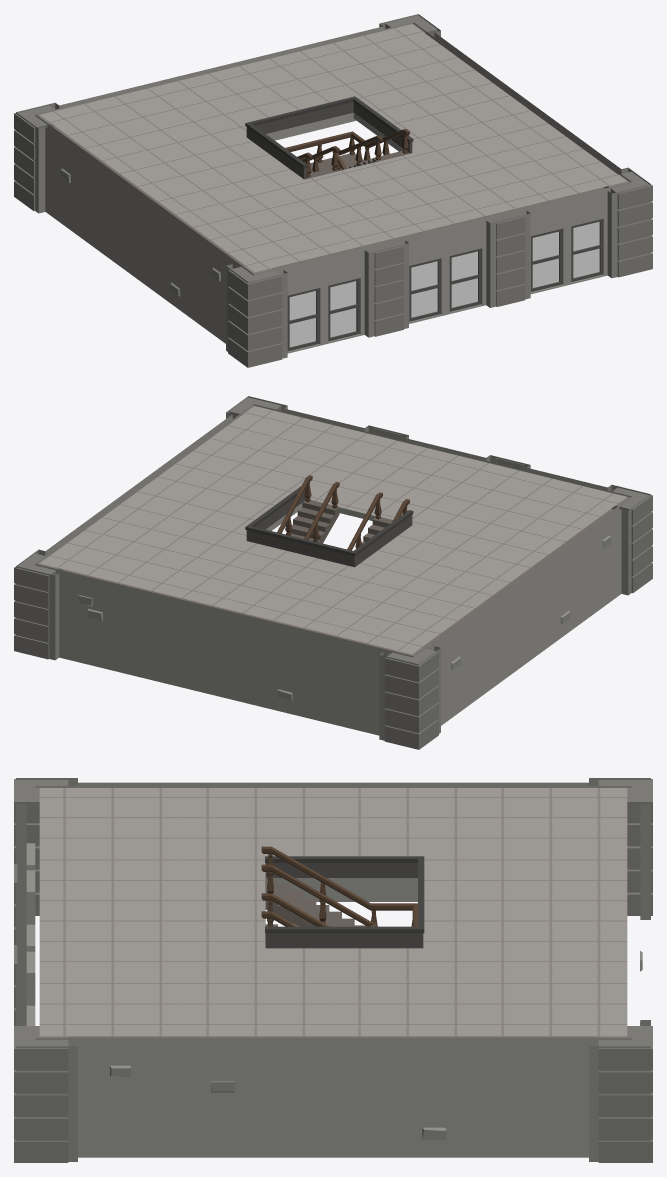
Rendered from SM_Bldg_City_High-Rise_03_Mid.fbx.
3 views of the same model, one above another, from view 1: azimuth 30°, elevation 25°; view 2: azimuth 150°, elevation 25°; view 3: azimuth 270°, elevation 25° (orthographic). The views are drawn at different scales.
Parts seen in each view (by area): view 1: SM_Bldg_City_High-Rise_03_Mid, SM_Bldg_City_High-Rise_03_Mid_Glass; view 2: SM_Bldg_City_High-Rise_03_Mid; view 3: SM_Bldg_City_High-Rise_03_Mid.
Part boxes in pixels (x1,y1,x2,y2): SM_Bldg_City_High-Rise_03_Mid: (14,14,652,367); SM_Bldg_City_High-Rise_03_Mid_Glass: (289,221,599,347); SM_Bldg_City_High-Rise_03_Mid: (14,396,652,749); SM_Bldg_City_High-Rise_03_Mid: (14,778,652,1162).
Bounding box in the file's own units: 1500 × 384 × 1500.
